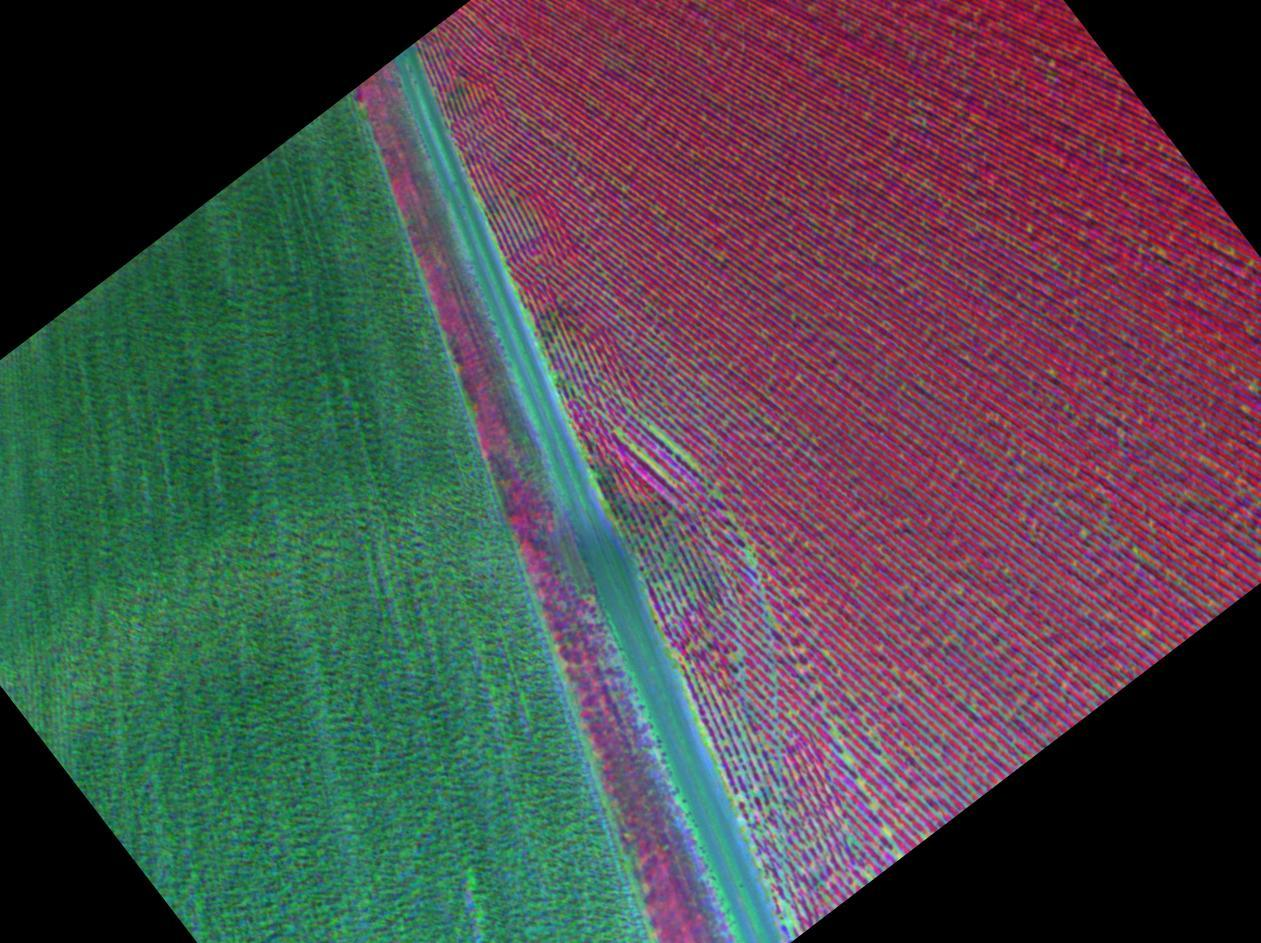dc: (746, 557, 755, 566), (883, 828, 890, 836), (833, 731, 839, 737)
